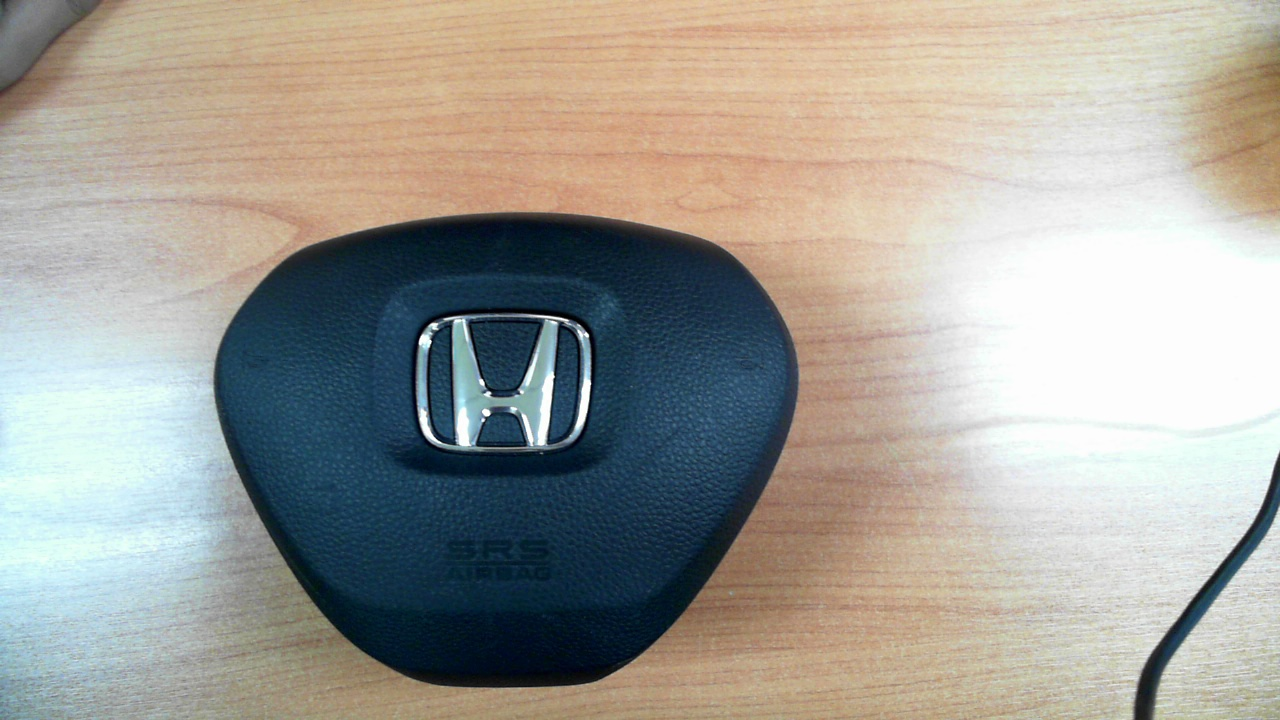Airbag: (213, 211, 799, 688)
Honda: (415, 313, 592, 453)
